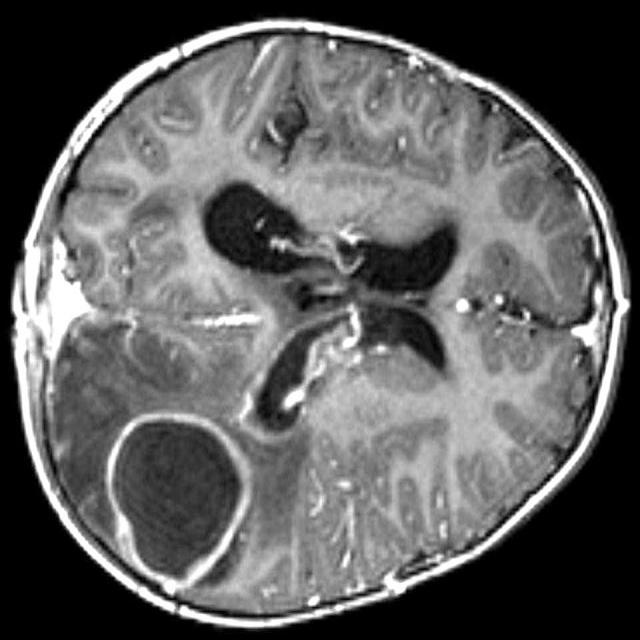tumor: (107, 409, 257, 582)
